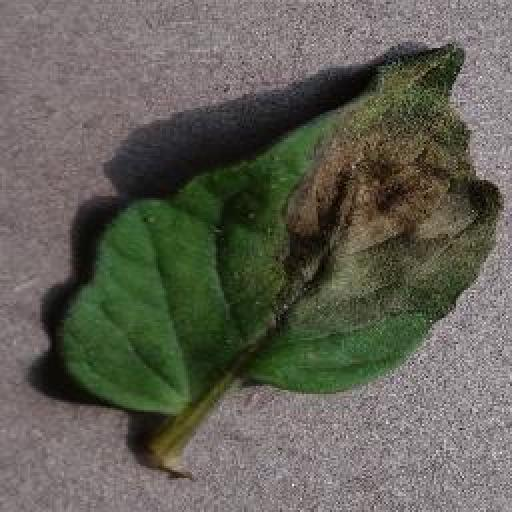disease_tomato: (58, 40, 502, 412)
